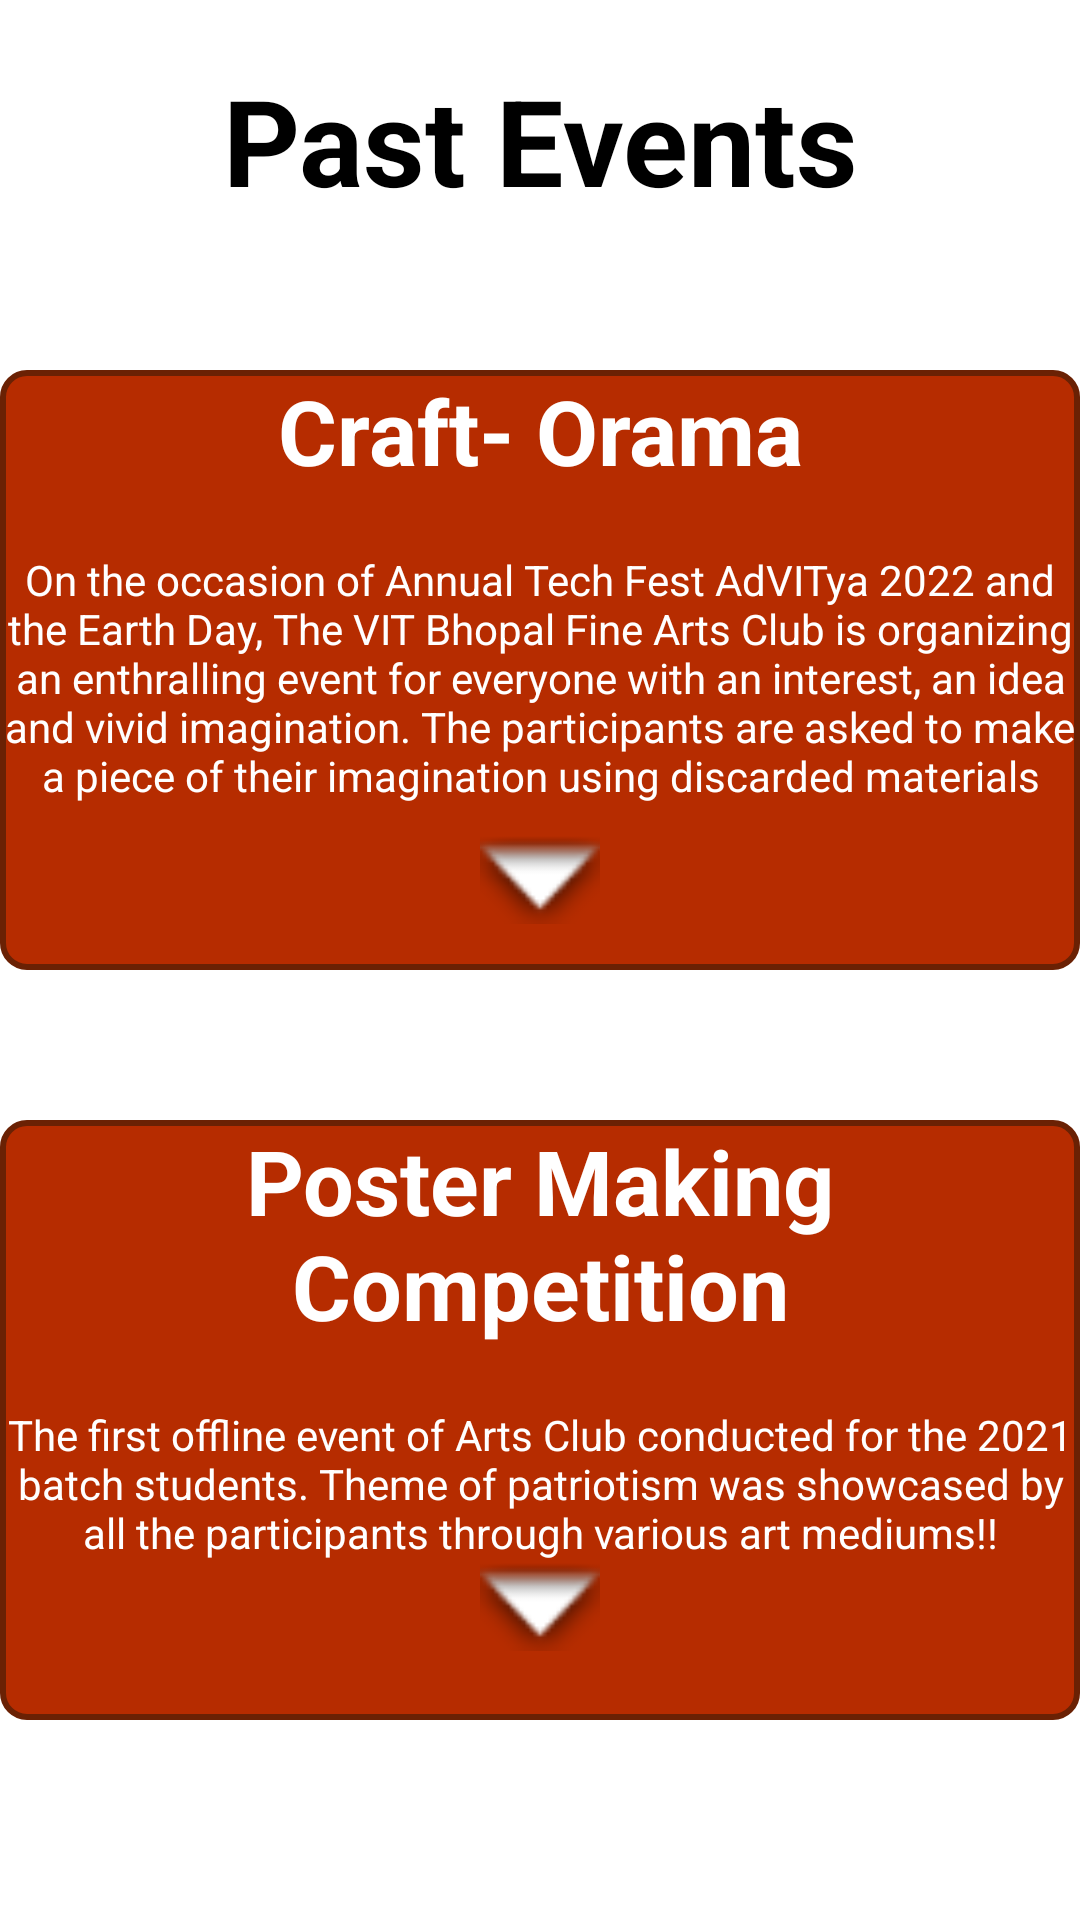

Icon click points for this 1080w x 1920h phone screenshot, format point (x, y):
arrow down float: point (540, 879), point (540, 1606)
